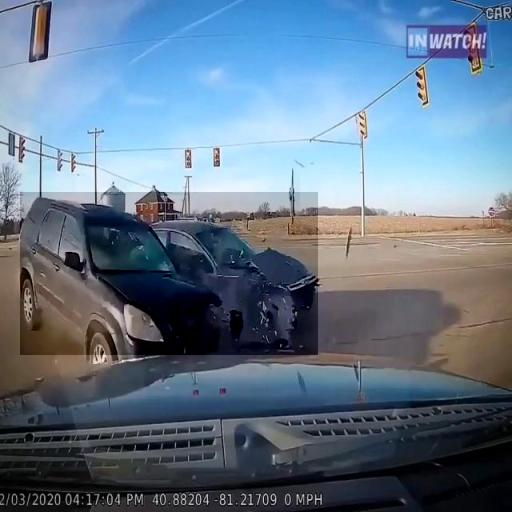小汽车撞小汽车: (20, 192, 318, 355)
